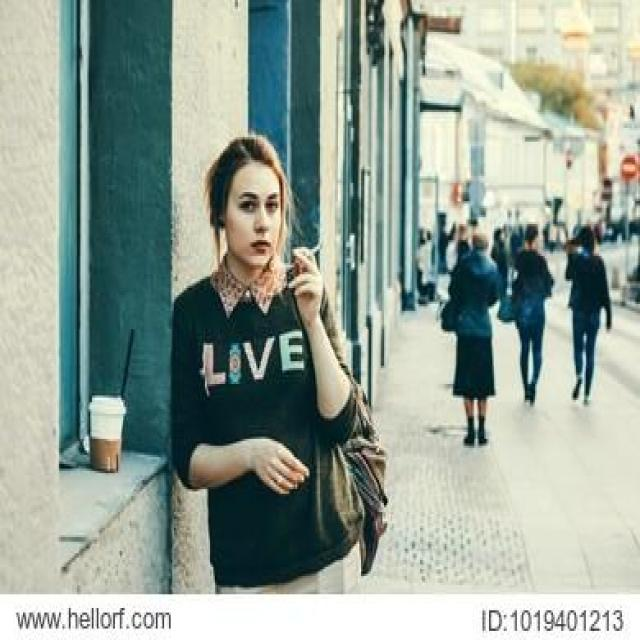Сигарета: (295, 245, 322, 265)
Тело: (172, 133, 374, 598)
